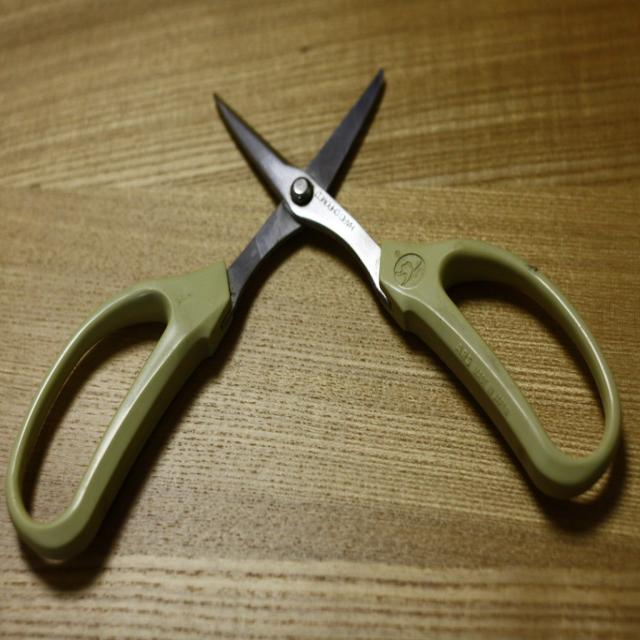scissors: (5, 66, 621, 566)
